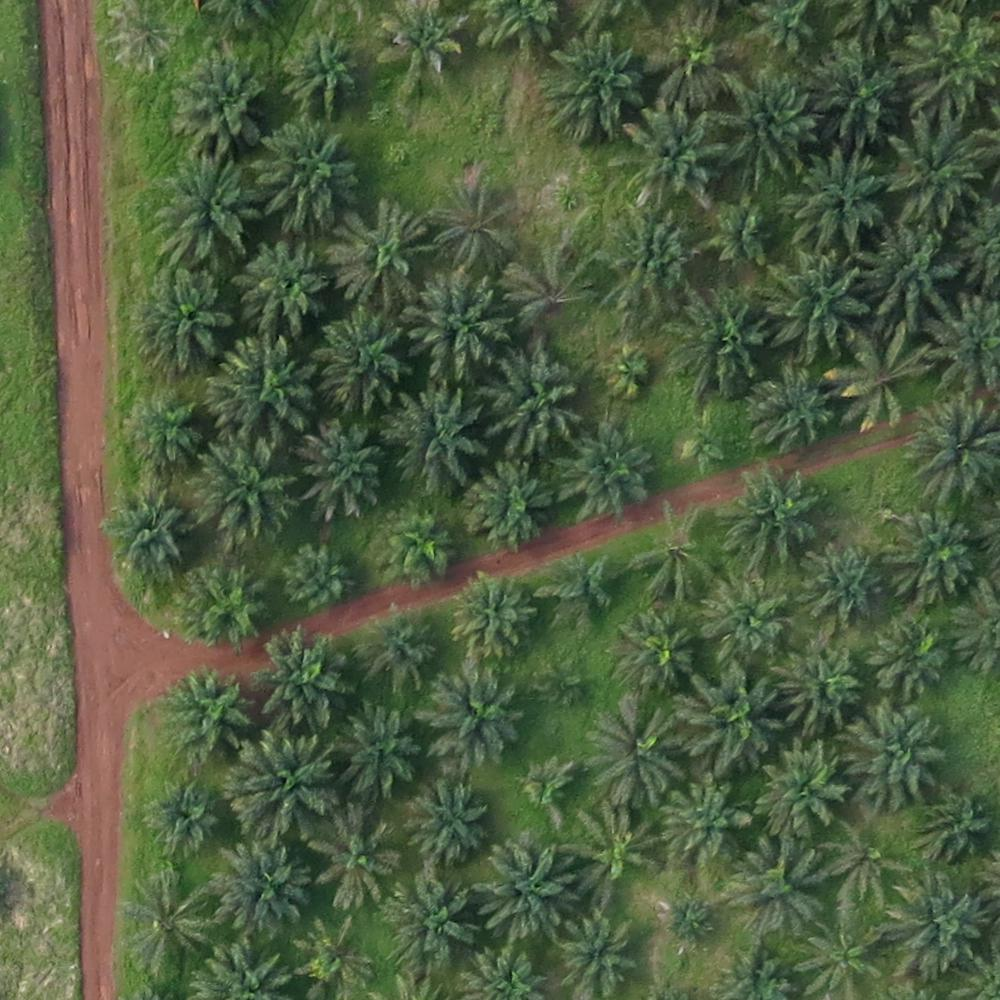Palm: (254, 119, 363, 229), (677, 669, 782, 779), (231, 735, 337, 839), (476, 835, 579, 939), (413, 668, 521, 767), (615, 107, 718, 210), (213, 339, 317, 441), (129, 269, 232, 371), (767, 248, 863, 357), (408, 276, 511, 376), (884, 873, 982, 978), (480, 357, 583, 456), (667, 289, 766, 392), (718, 72, 816, 176), (860, 223, 957, 328), (386, 385, 485, 486), (902, 7, 997, 112), (889, 117, 987, 218), (584, 704, 685, 801), (830, 330, 925, 433), (97, 484, 198, 580), (546, 32, 640, 135), (313, 314, 411, 412), (729, 838, 829, 933), (849, 702, 942, 804), (903, 401, 1000, 498), (197, 441, 290, 542), (289, 422, 387, 517), (723, 468, 818, 565), (789, 150, 889, 242), (810, 43, 901, 144), (174, 54, 264, 154), (558, 430, 656, 521), (310, 810, 400, 908), (124, 873, 212, 973), (238, 240, 330, 335), (328, 206, 419, 302), (644, 11, 740, 102), (156, 668, 253, 758), (606, 212, 696, 308), (386, 871, 475, 968), (158, 162, 249, 256), (432, 174, 521, 269), (464, 459, 556, 549), (255, 634, 348, 723), (705, 574, 795, 665), (888, 511, 977, 602), (217, 845, 310, 932), (564, 799, 660, 881), (923, 296, 1000, 396), (754, 745, 845, 829), (747, 366, 837, 450), (778, 647, 862, 734), (336, 707, 418, 794), (613, 609, 700, 690), (382, 1, 469, 81), (401, 783, 487, 862), (535, 552, 617, 634), (448, 578, 531, 659), (120, 391, 206, 469), (868, 615, 949, 697), (141, 777, 222, 858), (663, 782, 746, 861), (183, 566, 264, 646), (296, 918, 377, 997), (278, 34, 362, 110), (802, 548, 883, 625), (275, 540, 356, 616), (352, 615, 434, 689), (558, 919, 638, 994), (800, 921, 881, 995), (699, 195, 780, 268), (379, 517, 456, 590), (921, 795, 987, 869)
